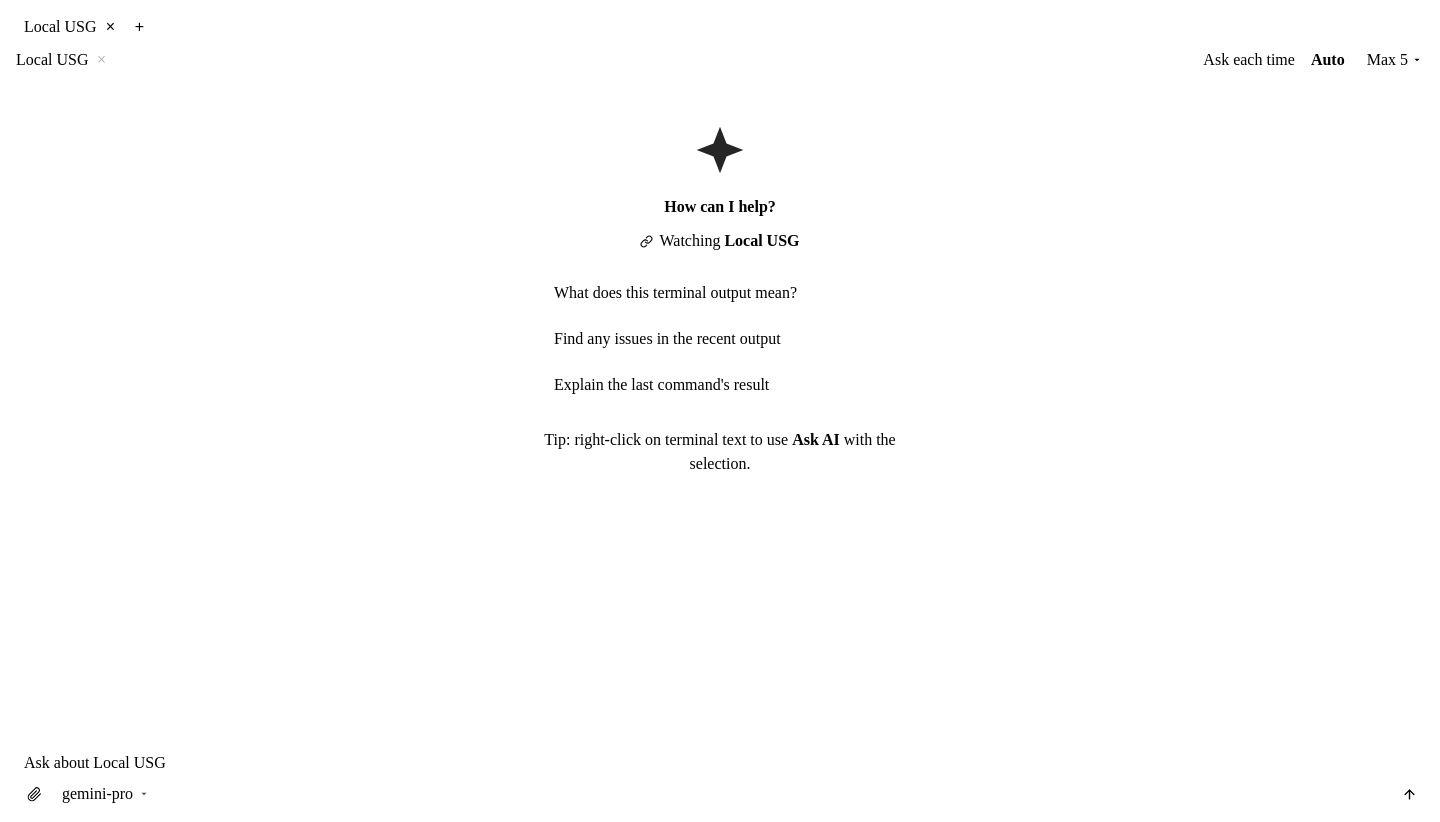
it: AIChatPane AI classifier gray-zone verdicts › does NOT auto-execute when the AI judges it modifies state, but shows the verdict
The width and height of the screenshot is (1440, 822).
Step 1. Type "do the thing" into the text box with placeholder "Ask about Local USG" → (721, 762), box [20, 748, 1422, 776]
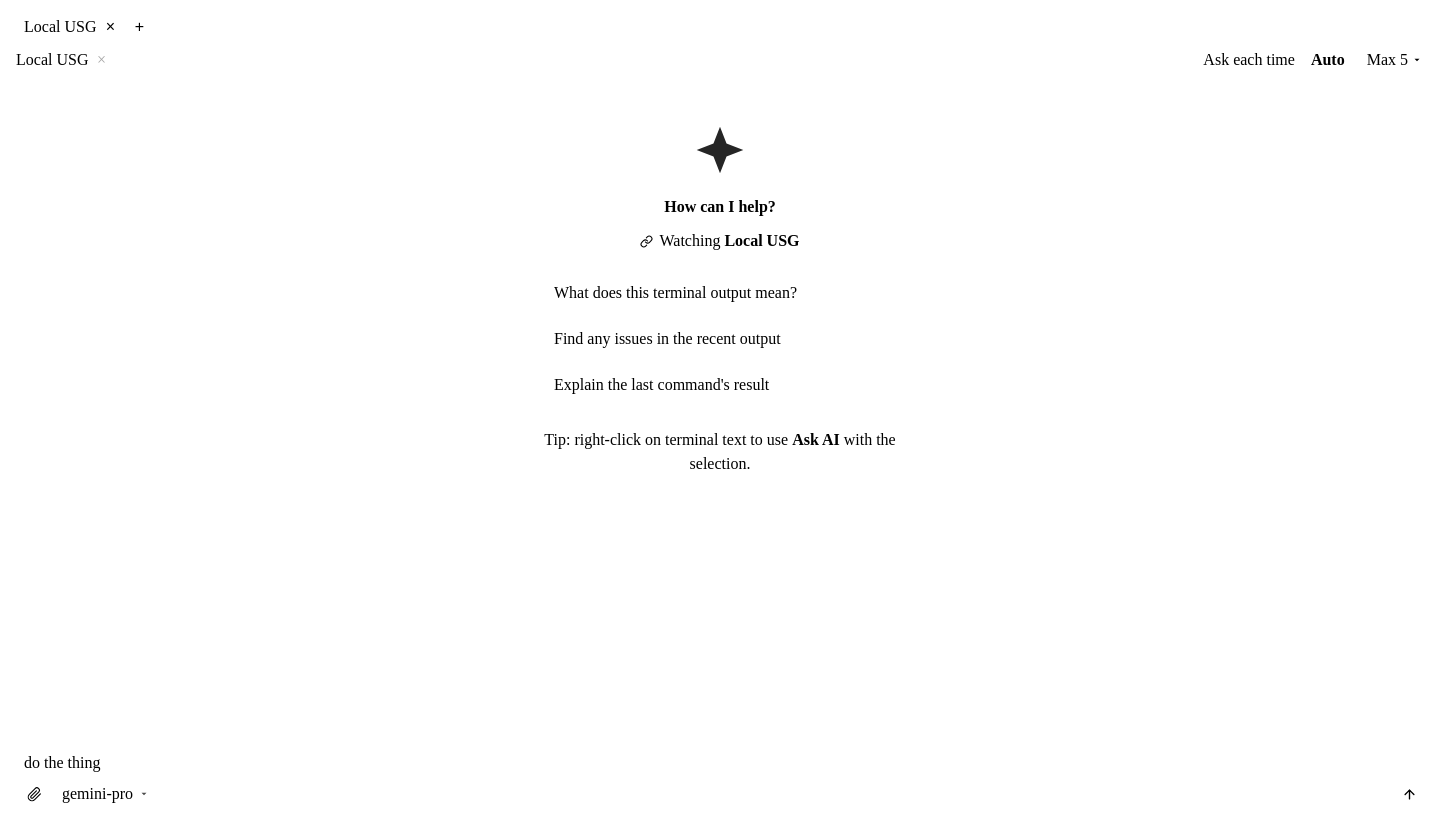
Step 2. Press Enter in the text box with placeholder "Ask about Local USG", box [20, 748, 1422, 776]
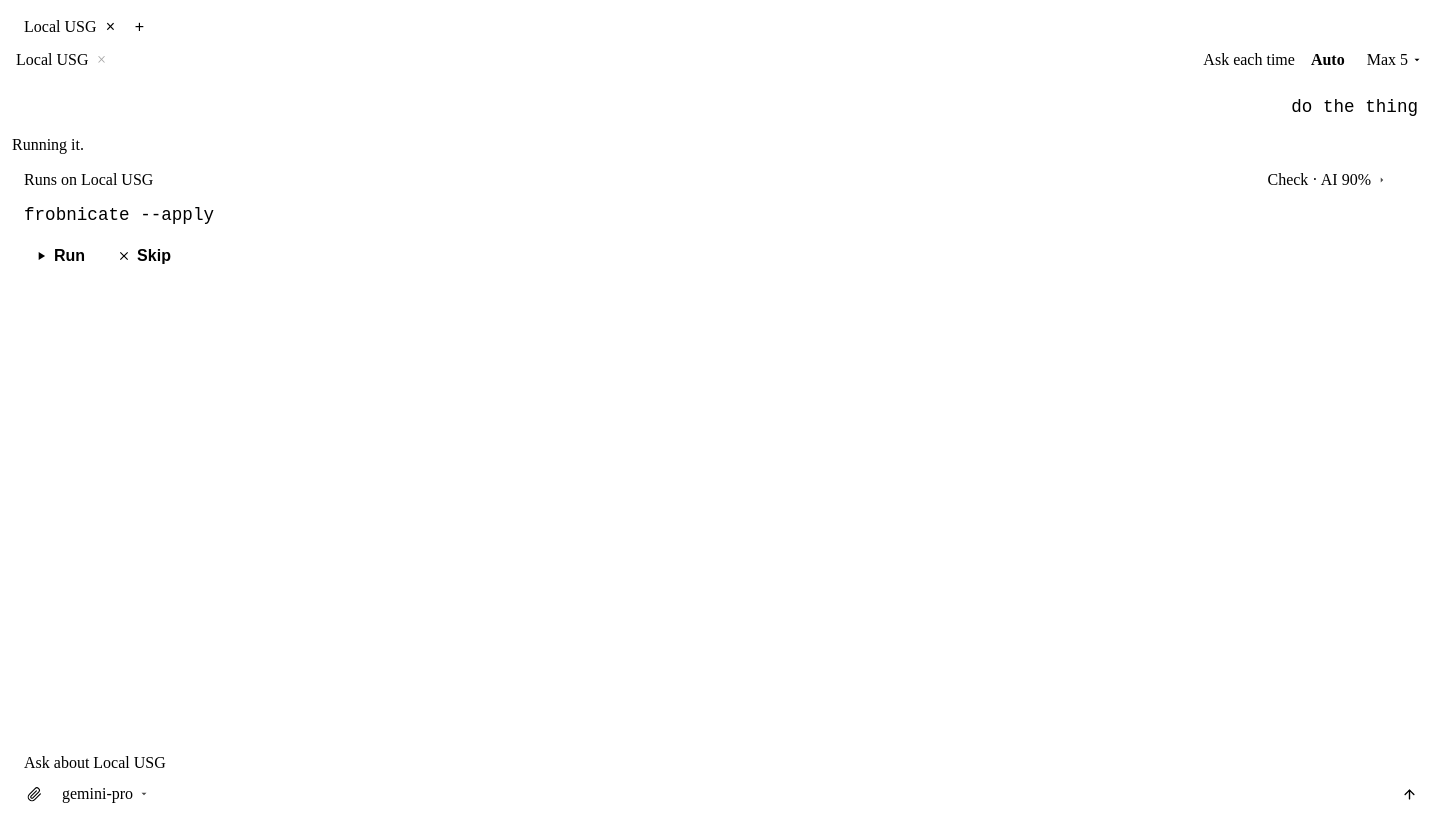
Expected: the text "Check · AI 90%" is shown, [1268, 171, 1371, 189]
